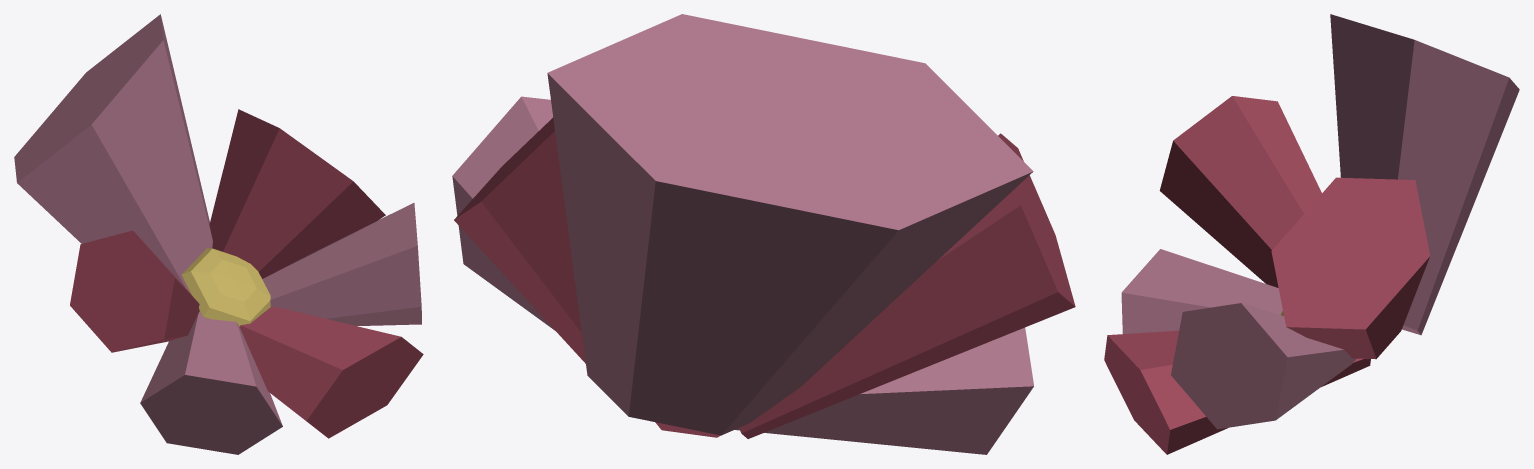
File: Flower_01.fbx
3 views of the same model, side by side, from view 1: azimuth 30°, elevation 25°; view 2: azimuth 150°, elevation 25°; view 3: azimuth 270°, elevation 25° (orthographic). The views are drawn at different scales.
Parts seen in each view (by area): view 1: NewFlowerPetal1, NewFlowerPetal6, NewFlowerPetal4, NewFlowerPetal3, NewFlowerPetal5, NewFlowerPetal2, FlowerCenter; view 2: NewFlowerPetal1, NewFlowerPetal2, NewFlowerPetal3, NewFlowerPetal6, NewFlowerPetal5; view 3: NewFlowerPetal1, NewFlowerPetal6, NewFlowerPetal2, NewFlowerPetal5, NewFlowerPetal4, NewFlowerPetal3.
Part boxes in pixels (left/top/right/bottom): NewFlowerPetal1: left=14, top=14, right=212, bottom=292; NewFlowerPetal6: left=209, top=109, right=385, bottom=278; NewFlowerPetal4: left=239, top=307, right=423, bottom=438; NewFlowerPetal3: left=140, top=311, right=282, bottom=454; NewFlowerPetal5: left=262, top=203, right=421, bottom=325; NewFlowerPetal2: left=70, top=230, right=199, bottom=352; FlowerCenter: left=181, top=248, right=270, bottom=326; NewFlowerPetal1: left=547, top=14, right=1033, bottom=435; NewFlowerPetal2: left=739, top=133, right=1075, bottom=438; NewFlowerPetal3: left=735, top=327, right=1033, bottom=454; NewFlowerPetal6: left=454, top=117, right=585, bottom=363; NewFlowerPetal5: left=452, top=96, right=554, bottom=330; NewFlowerPetal1: left=1330, top=14, right=1519, bottom=335; NewFlowerPetal6: left=1271, top=177, right=1430, bottom=359; NewFlowerPetal2: left=1159, top=96, right=1321, bottom=287; NewFlowerPetal5: left=1171, top=303, right=1356, bottom=429; NewFlowerPetal4: left=1104, top=330, right=1370, bottom=454; NewFlowerPetal3: left=1121, top=249, right=1282, bottom=333.
Size of the model in its own units: 0.6772 by 0.5618 by 0.5776.
